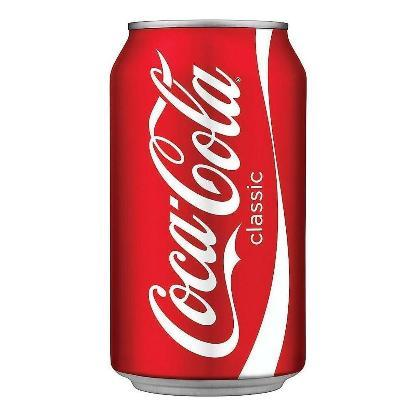Can: (110, 17, 308, 397)
